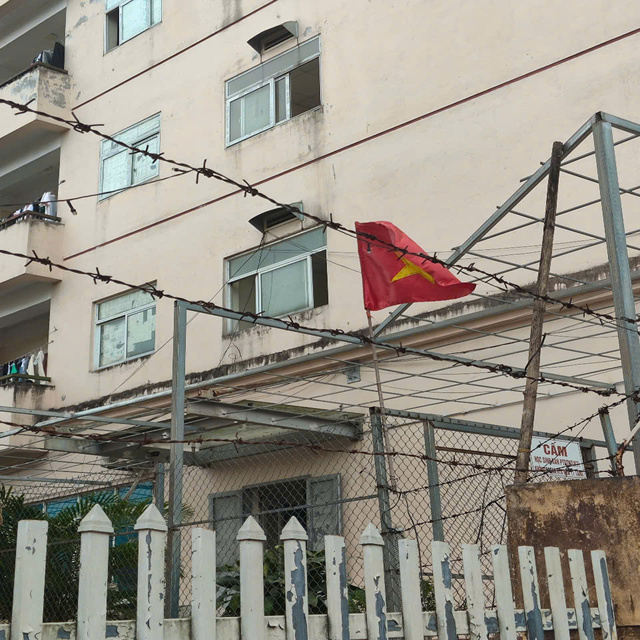laco: (342, 211, 485, 315)
